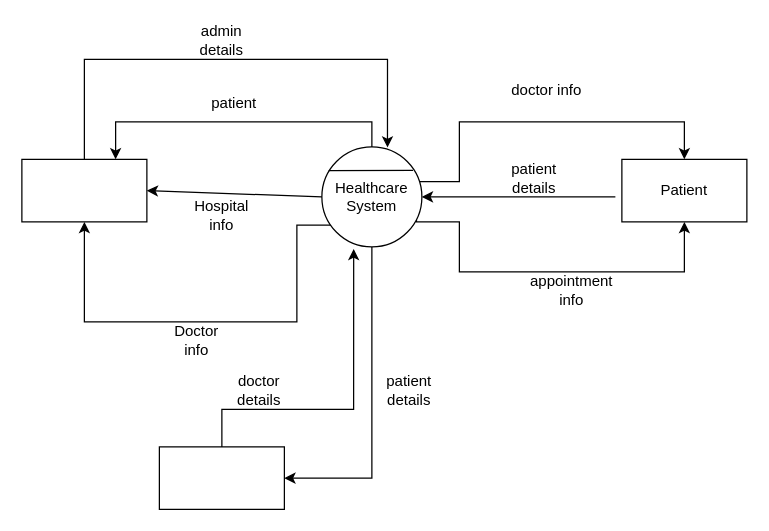
This 769x531 diagram has some shape labels left out. Each missing label, with the centre of its shape:
Admin: point (84, 190)
Doctor: point (221, 477)
